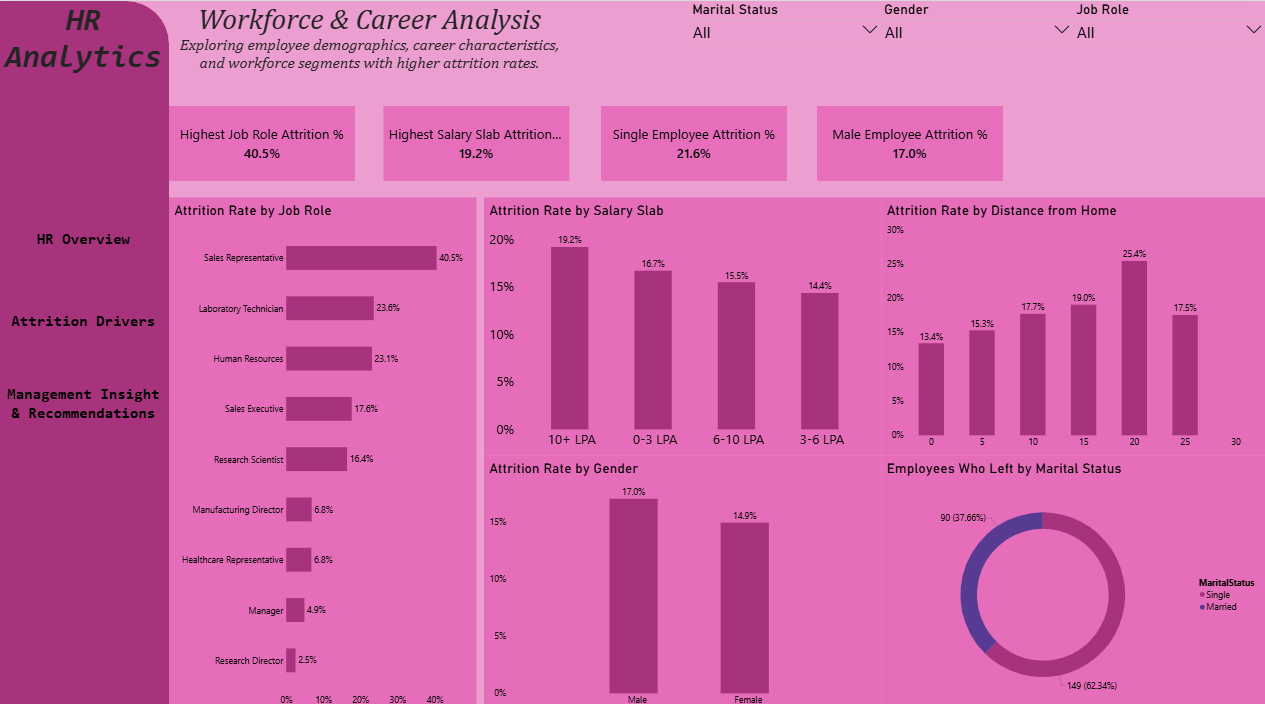

This screenshot's page, from the dashboard's own definition file:
{"tool":"powerbi","page":{"name":"Workforce & Career Analysis","canvas":[3840,2160],"ordinal":2},"visuals":[{"type":"cardVisual","fields":{"Data":["496f786e-f4ca-42cd-b43c-a809dec.Highest Job Role Attrition %"]},"box":[517.9,318,563.3,227.1],"z":0},{"type":"cardVisual","fields":{"Data":["496f786e-f4ca-42cd-b43c-a809dec.Highest Salary Slab Attrition %"]},"box":[1167.5,318,563.3,227.1],"z":1},{"type":"cardVisual","fields":{"Data":["496f786e-f4ca-42cd-b43c-a809dec.Single Employee Attrition %"]},"box":[1826.1,318,563.3,227.1],"z":2},{"type":"cardVisual","fields":{"Data":["496f786e-f4ca-42cd-b43c-a809dec.Male Employee Attrition %"]},"box":[2480.3,318,563.3,227.1],"z":3},{"type":"clusteredBarChart","title":"Attrition Rate by Job Role","fields":{"Category":["496f786e-f4ca-42cd-b43c-a809dec.JobRole"],"Y":["496f786e-f4ca-42cd-b43c-a809dec.Department Attrition Rate %"]},"box":[517.9,595.1,931.2,1562.7],"z":4},{"type":"clusteredColumnChart","title":"Attrition Rate  by Salary Slab","fields":{"Category":["496f786e-f4ca-42cd-b43c-a809dec.SalarySlab"],"Y":["496f786e-f4ca-42cd-b43c-a809dec.Department Attrition Rate %"]},"box":[1471.8,595.1,1203.8,781.3],"z":5},{"type":"donutChart","title":"Employees Who Left by Marital Status","fields":{"Category":["496f786e-f4ca-42cd-b43c-a809dec.MaritalStatus"],"Y":["496f786e-f4ca-42cd-b43c-a809dec.Employees Who Left"]},"box":[2675.6,1376.4,1162.9,781.3],"z":6},{"type":"clusteredColumnChart","title":"Attrition Rate by Gender","fields":{"Category":["496f786e-f4ca-42cd-b43c-a809dec.Gender"],"Y":["496f786e-f4ca-42cd-b43c-a809dec.Department Attrition Rate %"]},"box":[1471.8,1376.4,1203.8,781.3],"z":7},{"type":"clusteredColumnChart","title":"Attrition Rate by Distance from Home","fields":{"Category":["496f786e-f4ca-42cd-b43c-a809dec.DistanceFromHome(KM) (bins)"],"Y":["496f786e-f4ca-42cd-b43c-a809dec.Department Attrition Rate %"]},"box":[2675.6,595.1,1162.9,781.3],"z":8},{"type":"shape","box":[0,0,517.9,2157.7],"z":9},{"type":"slicer","fields":{"Values":["496f786e-f4ca-42cd-b43c-a809dec.JobRole"]},"box":[3257.1,0,581.5,181.7],"z":10},{"type":"slicer","fields":{"Values":["496f786e-f4ca-42cd-b43c-a809dec.Gender"]},"box":[2675.6,0,581.5,181.7],"z":11},{"type":"slicer","fields":{"Values":["496f786e-f4ca-42cd-b43c-a809dec.MaritalStatus"]},"box":[2094.1,0,581.5,181.7],"z":12},{"type":"textbox","box":[0,0,517.9,318],"z":13},{"type":"textbox","box":[517.9,0,1212.9,318],"z":14},{"type":"actionButton","box":[0,595.1,517.9,249.8],"z":15},{"type":"actionButton","box":[0,844.9,517.9,249.8],"z":16},{"type":"actionButton","box":[0,1094.8,517.9,249.8],"z":17}]}

Visuals, with their boxes in screenshot pixels (x1, y1, x2, y2), scaled from the page's 3840x2160 canvas onto the 1265x704 screenshot:
cardVisual - 496f786e-f4ca-42cd-b43c-a809dec.Highest Job Role Attrition %: {"x1": 171, "y1": 104, "x2": 356, "y2": 178}
cardVisual - 496f786e-f4ca-42cd-b43c-a809dec.Highest Salary Slab Attrition %: {"x1": 385, "y1": 104, "x2": 570, "y2": 178}
cardVisual - 496f786e-f4ca-42cd-b43c-a809dec.Single Employee Attrition %: {"x1": 602, "y1": 104, "x2": 787, "y2": 178}
cardVisual - 496f786e-f4ca-42cd-b43c-a809dec.Male Employee Attrition %: {"x1": 817, "y1": 104, "x2": 1003, "y2": 178}
"Attrition Rate by Job Role" clusteredBarChart: {"x1": 171, "y1": 194, "x2": 477, "y2": 703}
"Attrition Rate  by Salary Slab" clusteredColumnChart: {"x1": 485, "y1": 194, "x2": 881, "y2": 449}
"Employees Who Left by Marital Status" donutChart: {"x1": 881, "y1": 449, "x2": 1264, "y2": 703}
"Attrition Rate by Gender" clusteredColumnChart: {"x1": 485, "y1": 449, "x2": 881, "y2": 703}
"Attrition Rate by Distance from Home" clusteredColumnChart: {"x1": 881, "y1": 194, "x2": 1264, "y2": 449}
shape: {"x1": 0, "y1": 0, "x2": 171, "y2": 703}
slicer - 496f786e-f4ca-42cd-b43c-a809dec.JobRole: {"x1": 1073, "y1": 0, "x2": 1264, "y2": 59}
slicer - 496f786e-f4ca-42cd-b43c-a809dec.Gender: {"x1": 881, "y1": 0, "x2": 1073, "y2": 59}
slicer - 496f786e-f4ca-42cd-b43c-a809dec.MaritalStatus: {"x1": 690, "y1": 0, "x2": 881, "y2": 59}
textbox: {"x1": 0, "y1": 0, "x2": 171, "y2": 104}
textbox: {"x1": 171, "y1": 0, "x2": 570, "y2": 104}
actionButton: {"x1": 0, "y1": 194, "x2": 171, "y2": 275}
actionButton: {"x1": 0, "y1": 275, "x2": 171, "y2": 357}
actionButton: {"x1": 0, "y1": 357, "x2": 171, "y2": 438}
